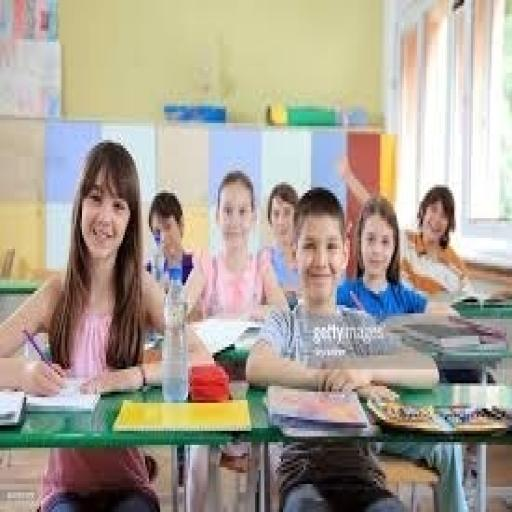sitting: (244, 182, 467, 509), (0, 137, 168, 509), (177, 168, 288, 509), (178, 168, 286, 324), (333, 193, 430, 322), (399, 182, 469, 299), (142, 187, 199, 294), (262, 179, 304, 299)
